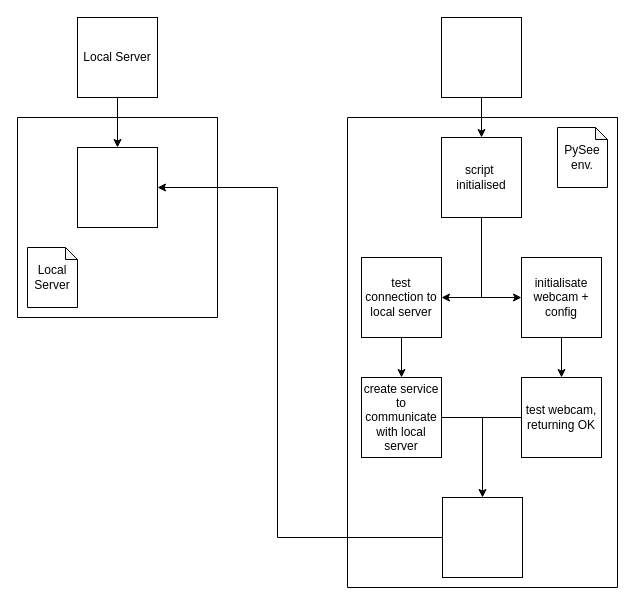
Some shapes in this 635 by 605 pixel diagram are drawn without their labels. The shapes that lost their labels are listed below. From the top down, each one's box as (x1, y1, x2, y2) in pixels, then its label:
(440, 16, 522, 98): Raspberry Pi 2b turn on
(76, 146, 158, 228): return video into local web
(442, 496, 522, 578): return video over WebRTC
